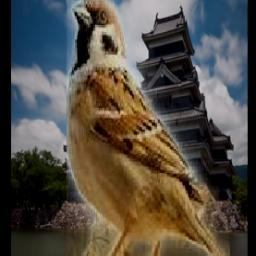Sparrow: (67, 0, 231, 256)
